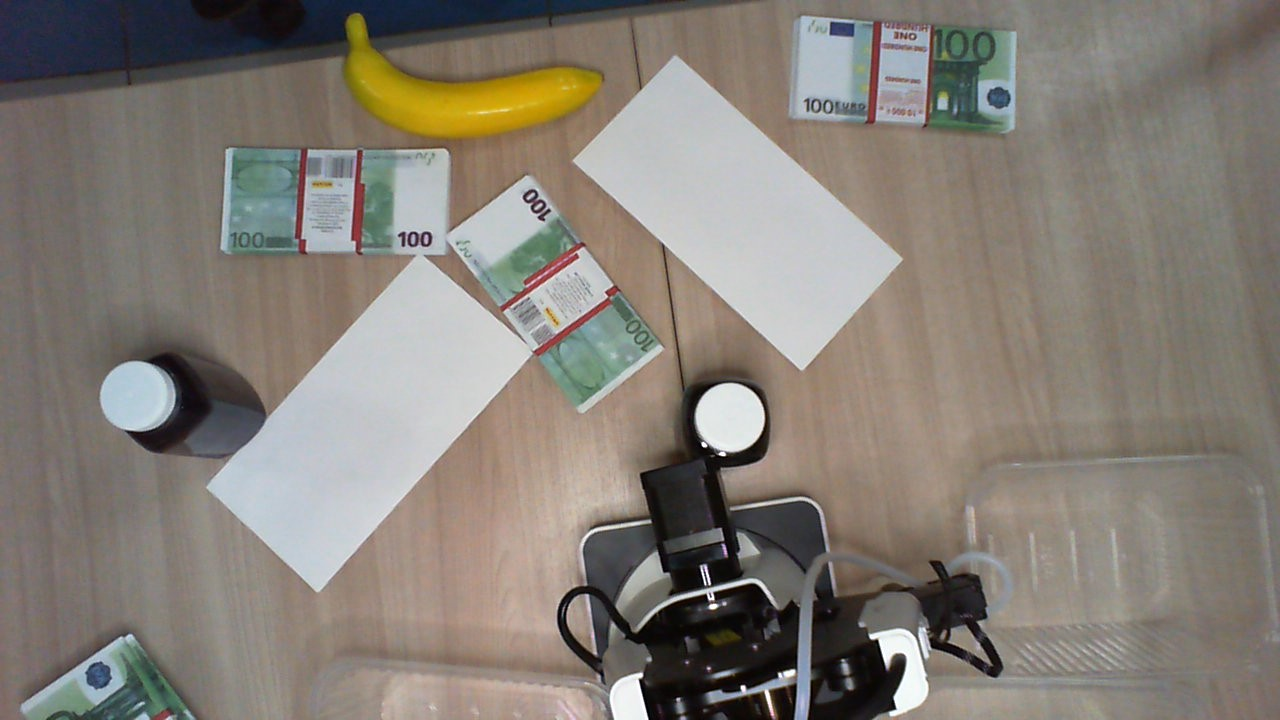banana: (338, 11, 607, 148)
bottle: (97, 351, 206, 447), (669, 376, 770, 474)
convert: (203, 252, 532, 589), (569, 51, 898, 369)
money: (446, 174, 663, 413), (788, 17, 1018, 132), (223, 144, 450, 257)
